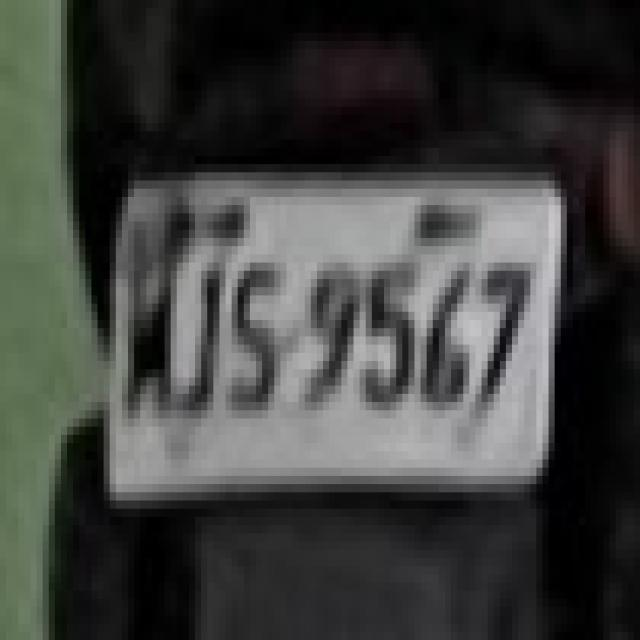license-plate: (97, 135, 568, 539)
